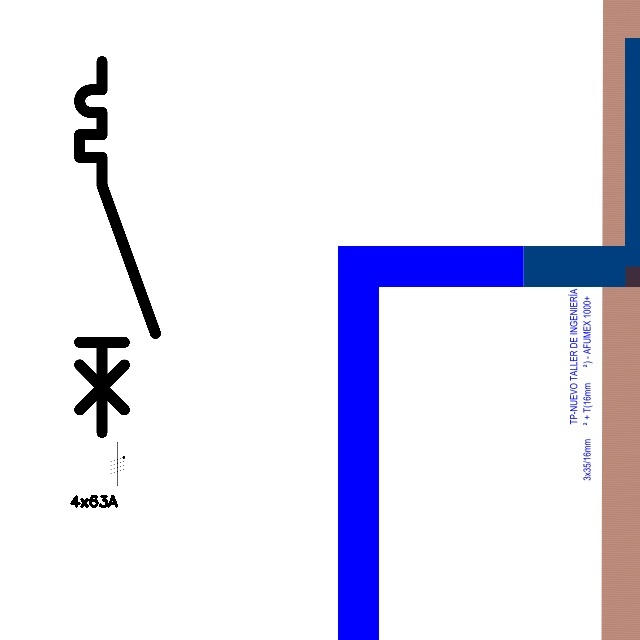interruptor_termomagnetico: (70, 52, 165, 442)
